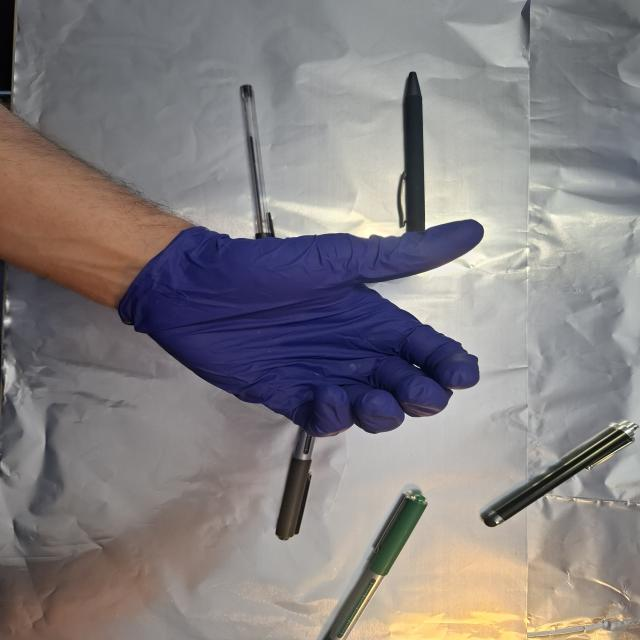glove_on: (119, 214, 488, 441)
